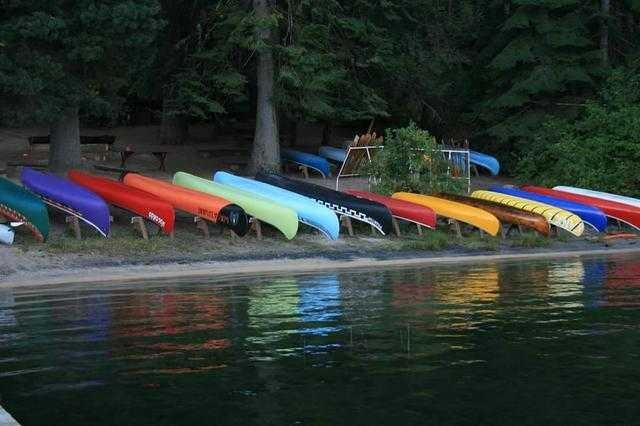kayak: (172, 168, 394, 242), (403, 185, 603, 238), (119, 169, 253, 237), (65, 168, 176, 238), (494, 183, 637, 234), (19, 166, 112, 239), (389, 189, 503, 238), (342, 187, 438, 231), (0, 175, 50, 243), (0, 222, 17, 246)
